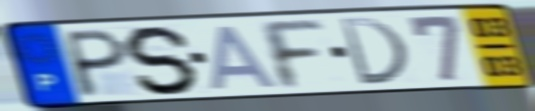7: (404, 14, 464, 83)
A: (209, 23, 283, 92)
D: (336, 16, 413, 87)
F: (254, 19, 328, 92)
P: (64, 26, 130, 99)
S: (122, 23, 202, 97)
